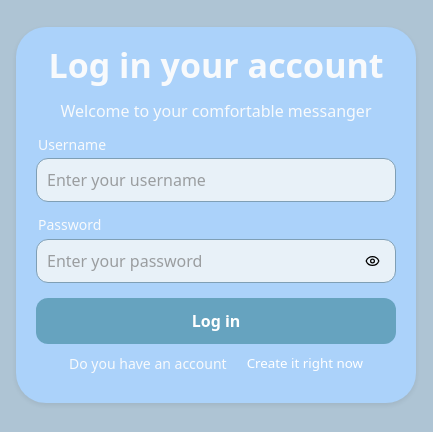
Test: Неверный пароль при допустимом имени пользователя
This screenshot has width=433, height=432.
Type "Egor" into the field labelled "Username" at {"x": 216, "y": 180}, box [36,158,396,202]
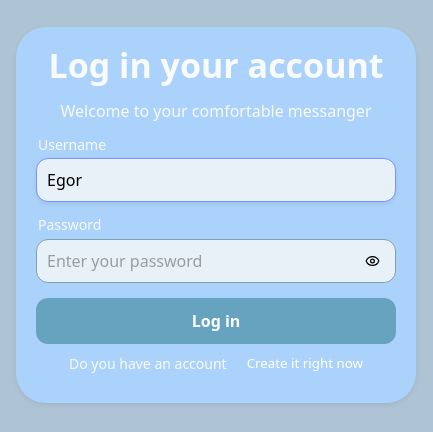
Type "12356457" into the password field labelled "Password" at {"x": 216, "y": 261}, box [36,239,396,283]
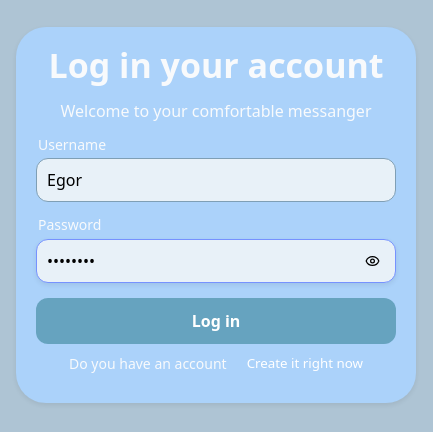
Click the button "Log in" at {"x": 216, "y": 321}, box [36,298,396,344]
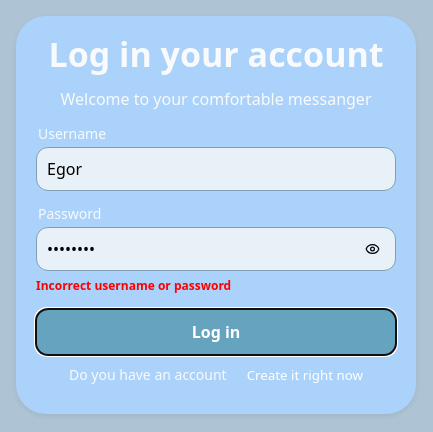
Now the text "Incorrect username or password" is shown, box [36,277,231,294]
